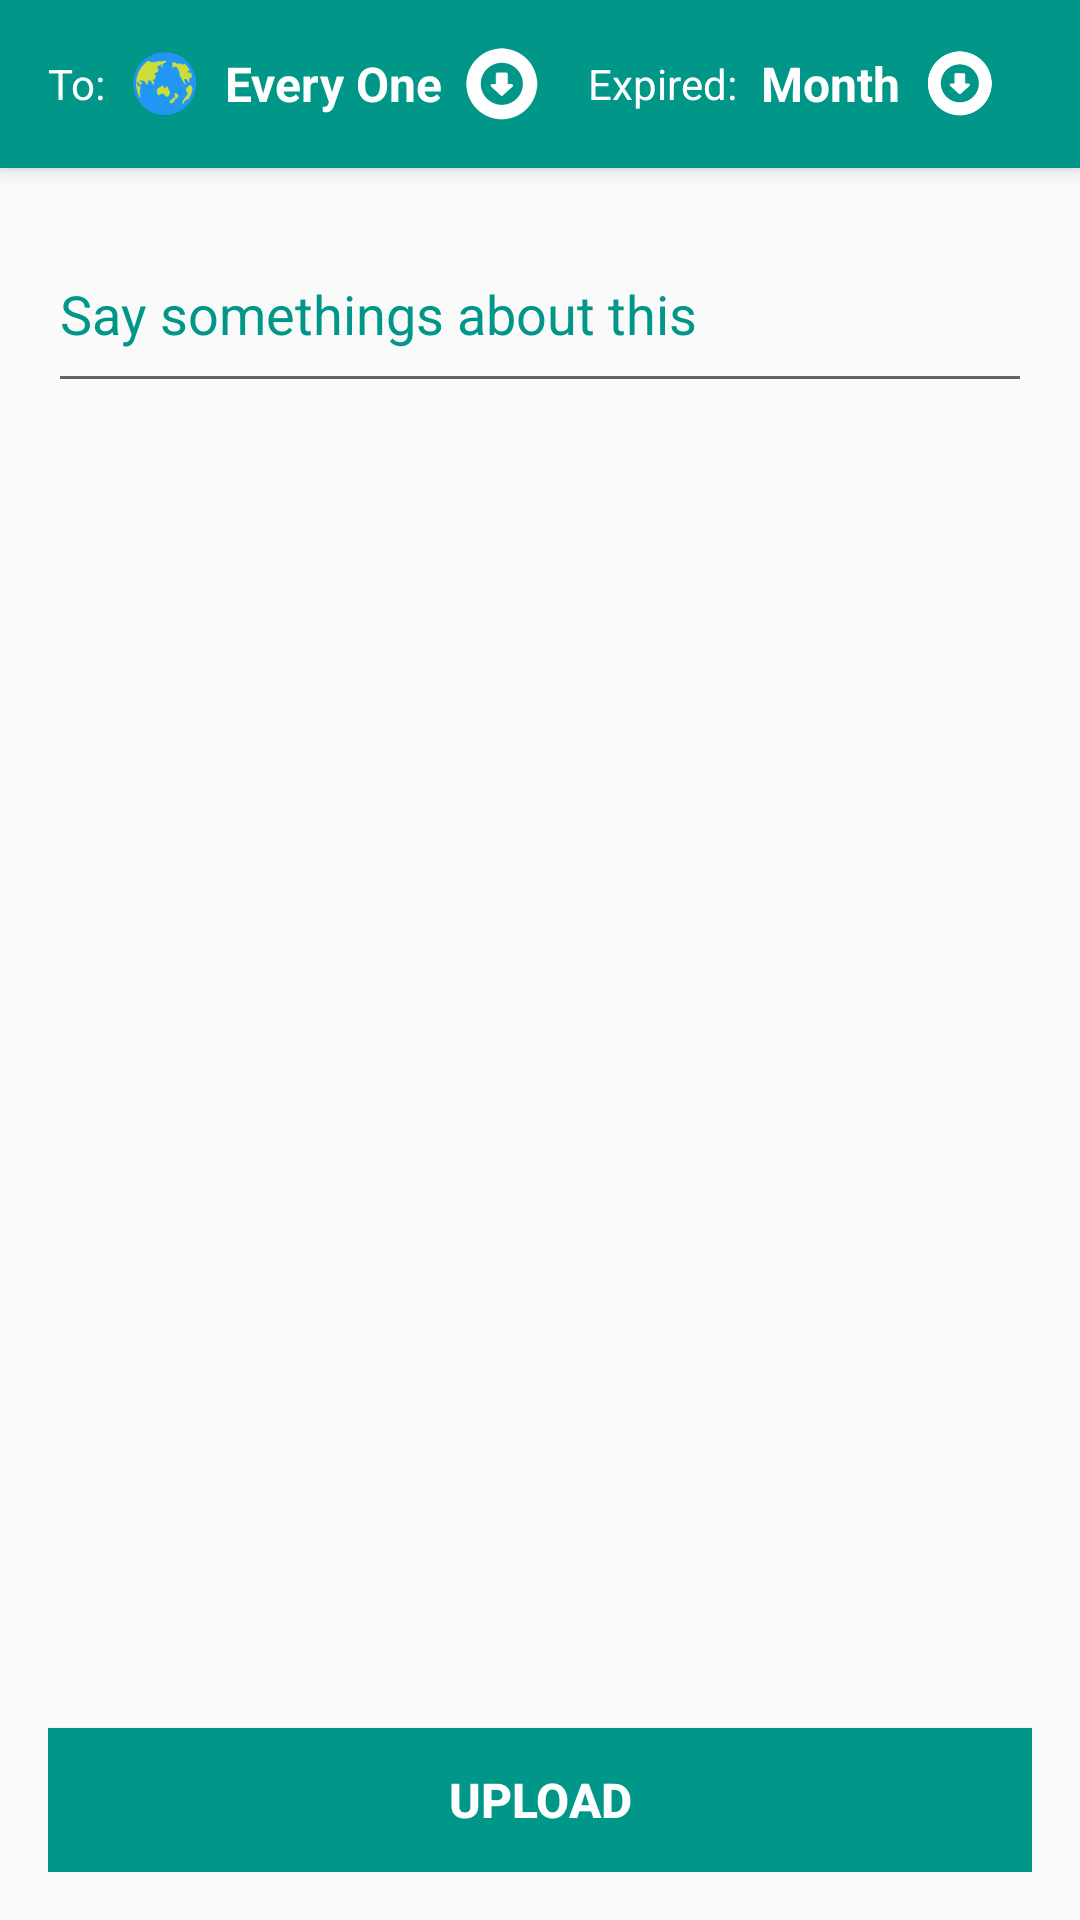

Screen size 1080x1920. Icon name, then its box in pixels as (x1, y1, x2, y2):
download: (466, 48, 538, 120), (928, 51, 992, 116)
globe: (133, 52, 196, 115)
